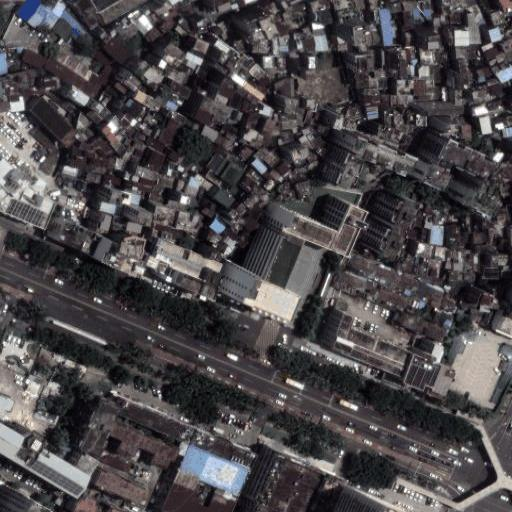building: (119, 397, 259, 471), (318, 305, 432, 380), (346, 250, 447, 309), (162, 444, 249, 512), (0, 423, 72, 493), (263, 194, 350, 248), (332, 268, 422, 316), (214, 39, 275, 102), (110, 423, 179, 474), (259, 459, 322, 512), (0, 173, 56, 230), (352, 185, 397, 253), (327, 129, 394, 172), (222, 269, 283, 315), (44, 50, 103, 97), (151, 239, 222, 277), (418, 130, 477, 175), (243, 221, 285, 278), (454, 155, 496, 210), (80, 400, 119, 457), (93, 468, 151, 506), (31, 339, 85, 378), (192, 96, 244, 136), (333, 485, 409, 512), (30, 97, 73, 141), (59, 453, 95, 499), (174, 270, 224, 300), (315, 148, 344, 186), (56, 218, 89, 251), (403, 148, 434, 183), (60, 9, 95, 39), (159, 112, 185, 146), (429, 365, 456, 397), (103, 34, 132, 62), (19, 46, 49, 72), (299, 126, 325, 155), (152, 206, 175, 237), (400, 311, 427, 335), (63, 83, 90, 107), (422, 320, 450, 343), (105, 115, 130, 140), (50, 16, 75, 41), (378, 8, 393, 46), (79, 229, 100, 256), (162, 43, 186, 66), (221, 162, 244, 186), (120, 236, 145, 258), (103, 455, 131, 474), (452, 58, 468, 91), (211, 84, 235, 106), (258, 15, 279, 40), (377, 124, 403, 144), (135, 91, 162, 110), (213, 186, 236, 208), (241, 127, 265, 148), (88, 100, 112, 121), (297, 179, 317, 204), (73, 493, 99, 512), (439, 179, 461, 201), (433, 309, 456, 330), (176, 211, 199, 232), (90, 137, 111, 159), (282, 3, 309, 20), (93, 237, 112, 261), (339, 8, 365, 25), (133, 12, 154, 33), (243, 188, 263, 210), (240, 111, 261, 131), (443, 225, 463, 246), (462, 284, 482, 305), (109, 189, 131, 208), (151, 182, 170, 204), (253, 102, 275, 121), (169, 80, 192, 98), (201, 124, 224, 142), (454, 251, 472, 274), (494, 315, 512, 338), (426, 106, 463, 117), (354, 54, 374, 74), (96, 61, 116, 81), (121, 19, 141, 39), (99, 201, 125, 216), (156, 17, 176, 36), (312, 24, 326, 51), (185, 48, 206, 66), (279, 184, 297, 205), (146, 151, 164, 172), (351, 27, 368, 49), (133, 176, 156, 192), (143, 66, 162, 85), (74, 111, 93, 130), (62, 128, 81, 147), (100, 128, 120, 146), (396, 133, 413, 154), (205, 170, 226, 187), (429, 224, 445, 246), (136, 167, 159, 182), (468, 87, 487, 105), (345, 104, 363, 123), (254, 144, 272, 163), (425, 259, 443, 278), (439, 295, 457, 314), (130, 129, 150, 146), (405, 49, 417, 77), (356, 73, 378, 88), (123, 74, 141, 92), (209, 216, 227, 234), (283, 146, 302, 163), (136, 210, 155, 227), (468, 13, 478, 45), (127, 98, 143, 118), (222, 235, 237, 256), (363, 85, 380, 103), (218, 132, 235, 150), (239, 175, 257, 192), (145, 25, 162, 43), (130, 143, 146, 162), (103, 170, 122, 186), (277, 129, 294, 146), (263, 151, 280, 168), (244, 217, 261, 234), (261, 119, 277, 137), (222, 224, 240, 240), (186, 175, 202, 193), (396, 50, 406, 78), (367, 30, 383, 47), (341, 119, 358, 135), (193, 39, 210, 55), (155, 54, 172, 70), (209, 153, 225, 170), (206, 229, 223, 245), (2, 82, 18, 99), (485, 101, 503, 116), (296, 136, 311, 154), (139, 123, 157, 138), (483, 46, 502, 60), (416, 243, 435, 257), (482, 265, 501, 279), (69, 155, 88, 169), (471, 250, 482, 274), (479, 115, 492, 135), (400, 10, 413, 30), (384, 110, 404, 123), (101, 212, 114, 232), (488, 28, 504, 44), (472, 102, 488, 118), (252, 158, 268, 174), (267, 166, 283, 182), (97, 27, 113, 43), (120, 111, 136, 127), (145, 9, 161, 25), (473, 66, 488, 83), (240, 99, 257, 114), (245, 170, 262, 185), (194, 18, 209, 35), (147, 137, 165, 151), (84, 171, 102, 185), (61, 164, 80, 177), (419, 49, 435, 64), (91, 160, 107, 175), (425, 35, 442, 49), (168, 69, 185, 83), (156, 172, 173, 186), (86, 110, 103, 124), (79, 6, 96, 20), (491, 85, 506, 100), (453, 30, 468, 45), (173, 23, 188, 38), (480, 62, 494, 78), (426, 87, 440, 103), (434, 245, 448, 261), (146, 257, 162, 271), (169, 150, 185, 164), (81, 139, 95, 155), (491, 61, 508, 74), (217, 22, 230, 39), (414, 78, 426, 96), (365, 101, 377, 119), (322, 105, 334, 123), (405, 28, 417, 46), (288, 54, 300, 72), (238, 145, 252, 160), (226, 207, 241, 221), (473, 232, 489, 245), (460, 123, 471, 141), (421, 8, 435, 22), (278, 162, 292, 176), (263, 177, 277, 191), (235, 201, 249, 215), (486, 78, 501, 91), (302, 38, 315, 53), (200, 206, 215, 219), (284, 78, 296, 94), (281, 120, 298, 131), (280, 0, 303, 8), (489, 12, 502, 26), (499, 39, 512, 53), (453, 45, 467, 58), (114, 83, 128, 96), (179, 192, 192, 206), (419, 63, 431, 78), (307, 52, 317, 70), (304, 98, 316, 113), (488, 225, 497, 245), (125, 223, 143, 233), (294, 31, 303, 50), (492, 255, 509, 265), (42, 79, 59, 89), (446, 124, 460, 136), (129, 192, 141, 206), (198, 179, 212, 191), (173, 178, 185, 192), (152, 127, 164, 141), (286, 98, 297, 113), (154, 94, 169, 105), (9, 98, 24, 109), (378, 67, 387, 85), (253, 43, 271, 52), (391, 0, 403, 13), (166, 100, 179, 112), (144, 114, 156, 127), (452, 92, 463, 106), (122, 145, 133, 159), (171, 228, 185, 239), (280, 37, 290, 52), (446, 13, 462, 22), (416, 114, 427, 127), (379, 92, 389, 106), (166, 168, 180, 178), (388, 94, 400, 105), (277, 58, 289, 69), (494, 212, 505, 224), (499, 0, 512, 10), (398, 78, 406, 94), (304, 113, 315, 124), (115, 158, 126, 169), (263, 56, 273, 68), (304, 70, 318, 78), (412, 11, 422, 22), (275, 79, 285, 90), (399, 96, 412, 104), (425, 78, 435, 88), (296, 154, 306, 164), (152, 112, 163, 121), (229, 0, 240, 9), (440, 88, 447, 102), (434, 15, 441, 29), (297, 106, 304, 120), (185, 60, 195, 69), (494, 121, 505, 129), (440, 14, 447, 23), (409, 79, 414, 90), (468, 0, 476, 4)
